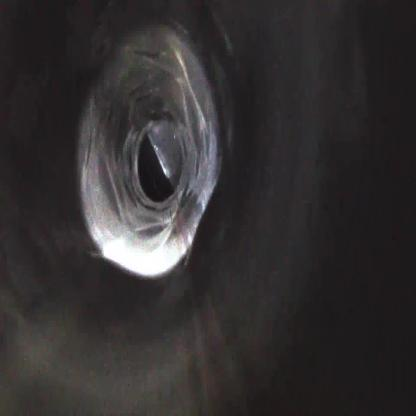Crack: (78, 21, 226, 278)
